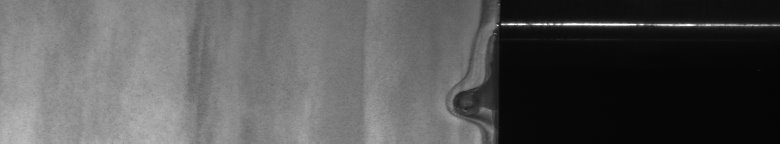hb: (439, 44, 472, 128)
